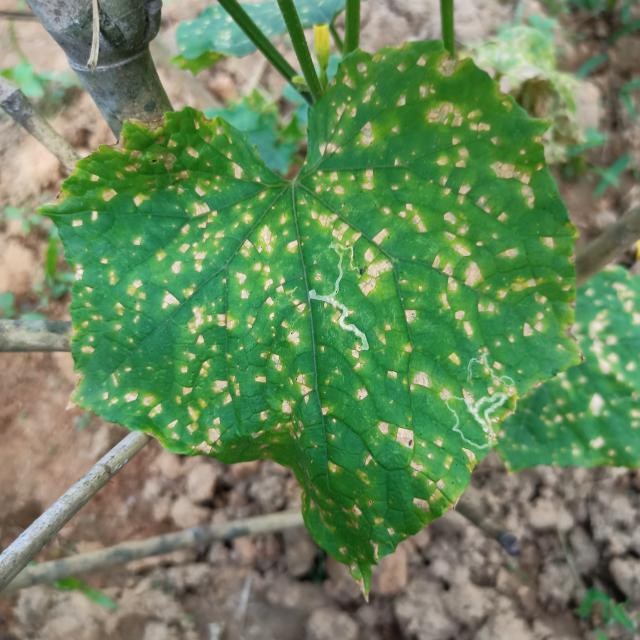disease_cucumber: (101, 56, 549, 531)
